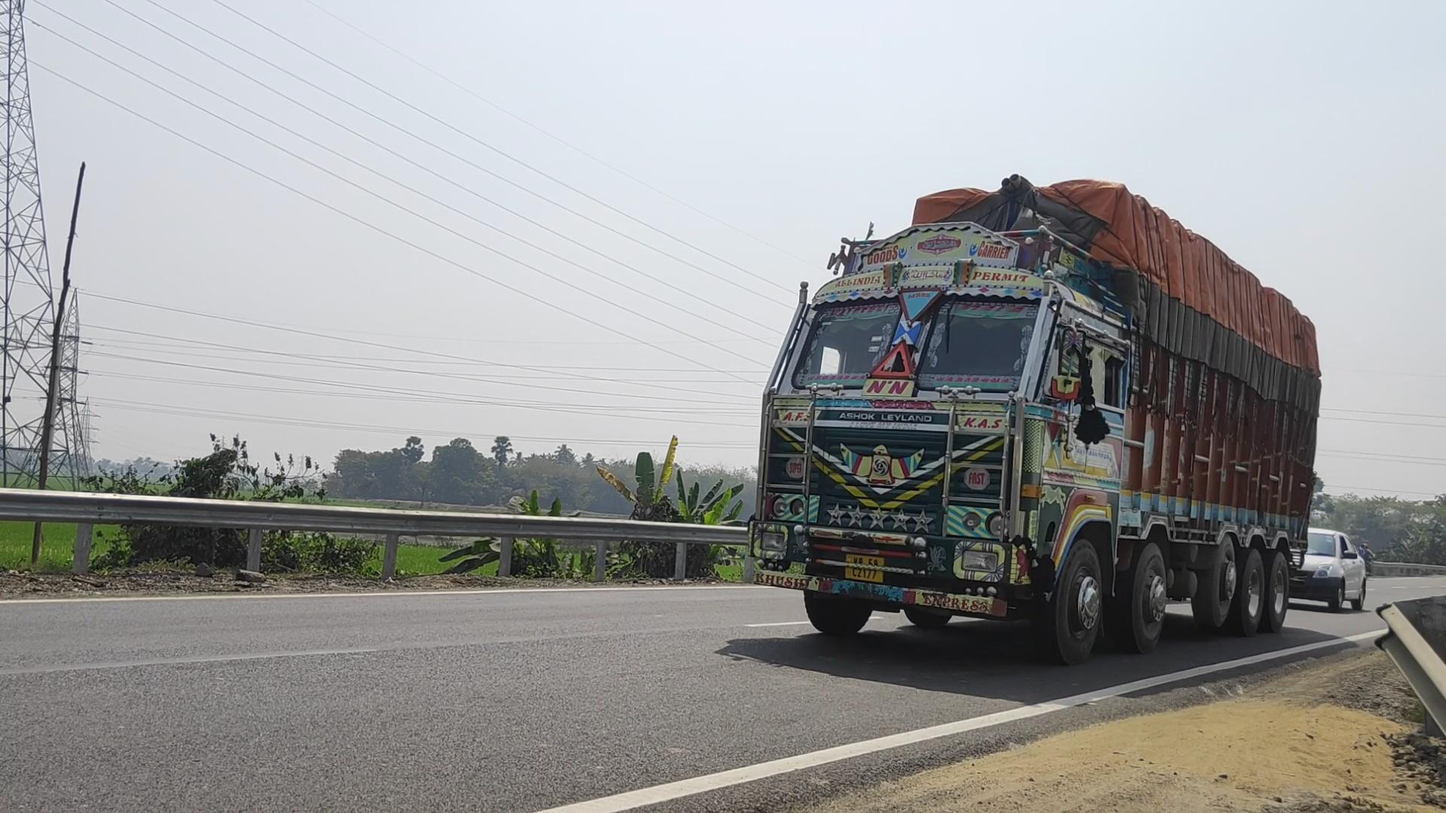car: (1286, 525, 1368, 616)
truck: (746, 175, 1322, 666)
